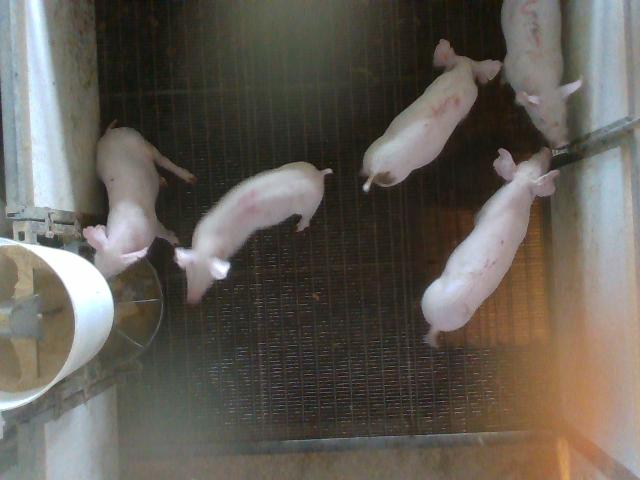pig-3: (501, 0, 582, 148)
pig-4: (175, 161, 332, 303)
pig-5: (361, 39, 501, 192)
